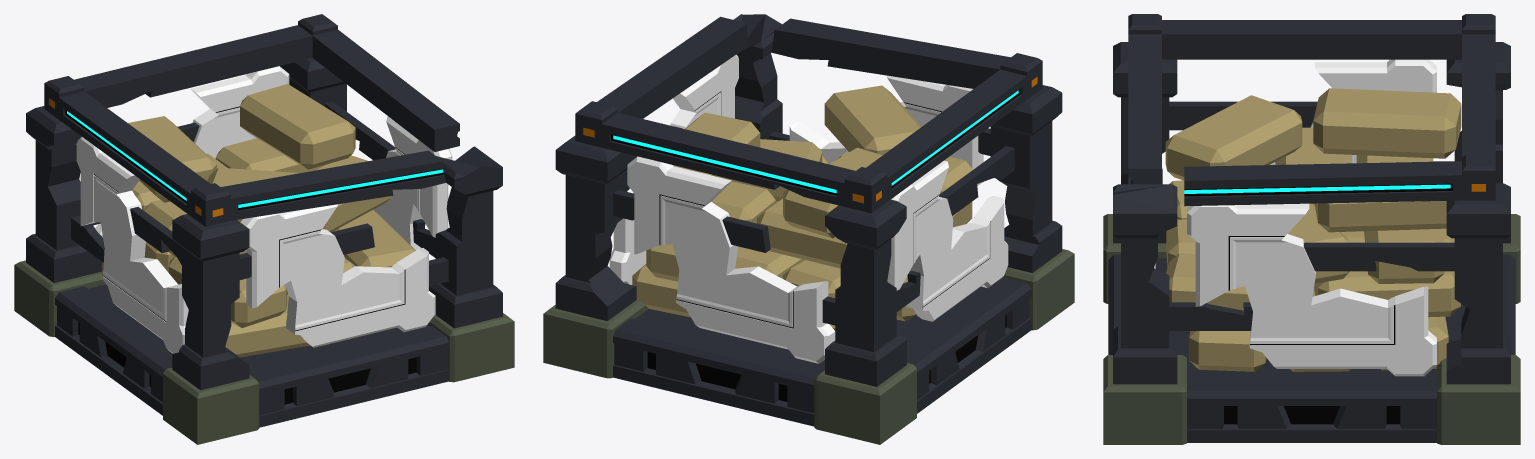
File: SM_Military_Wall_Destroyed_T1.fbx
3 views of the same model, side by side, from view 1: azimuth 30°, elevation 25°; view 2: azimuth 150°, elevation 25°; view 3: azimuth 270°, elevation 25° (orthographic). The views are drawn at different scales.
Parts seen in each view (by area): view 1: SM_Military_Wall_Destroyed_T1; view 2: SM_Military_Wall_Destroyed_T1; view 3: SM_Military_Wall_Destroyed_T1.
Boxes of the visible parts, bbox=[...] form: SM_Military_Wall_Destroyed_T1: bbox=[14, 14, 514, 444]; SM_Military_Wall_Destroyed_T1: bbox=[543, 14, 1074, 444]; SM_Military_Wall_Destroyed_T1: bbox=[1103, 14, 1520, 444].
Size of the model in its own units: 100 by 70.6 by 100.
